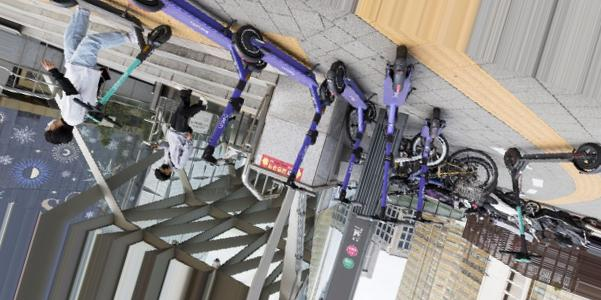scooter: (132, 1, 268, 170), (498, 143, 601, 264), (356, 42, 415, 230), (326, 58, 377, 213)
